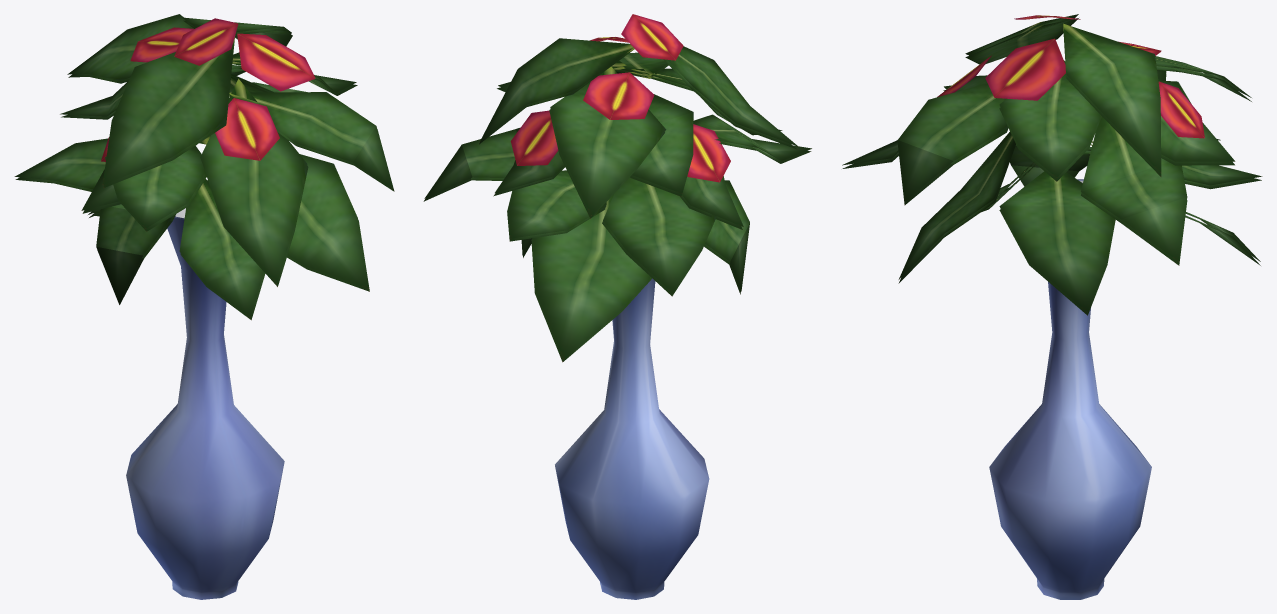
The model's file is TouKuiZheJia_01_huaping_02.FBX.
3 renders of one model, left to right at view 1: azimuth 30°, elevation 25°; view 2: azimuth 150°, elevation 25°; view 3: azimuth 270°, elevation 25°, orthographic. The views are drawn at different scales.
Visible parts, largest first — view 1: TouKuiZheJia_huaping_02; view 2: TouKuiZheJia_huaping_02; view 3: TouKuiZheJia_huaping_02.
Part boxes in pixels (x1,y1,x2,y2): TouKuiZheJia_huaping_02: (14,14,394,599); TouKuiZheJia_huaping_02: (423,14,811,599); TouKuiZheJia_huaping_02: (842,14,1262,599).
Size of the model in its own units: 240 by 439 by 290.
